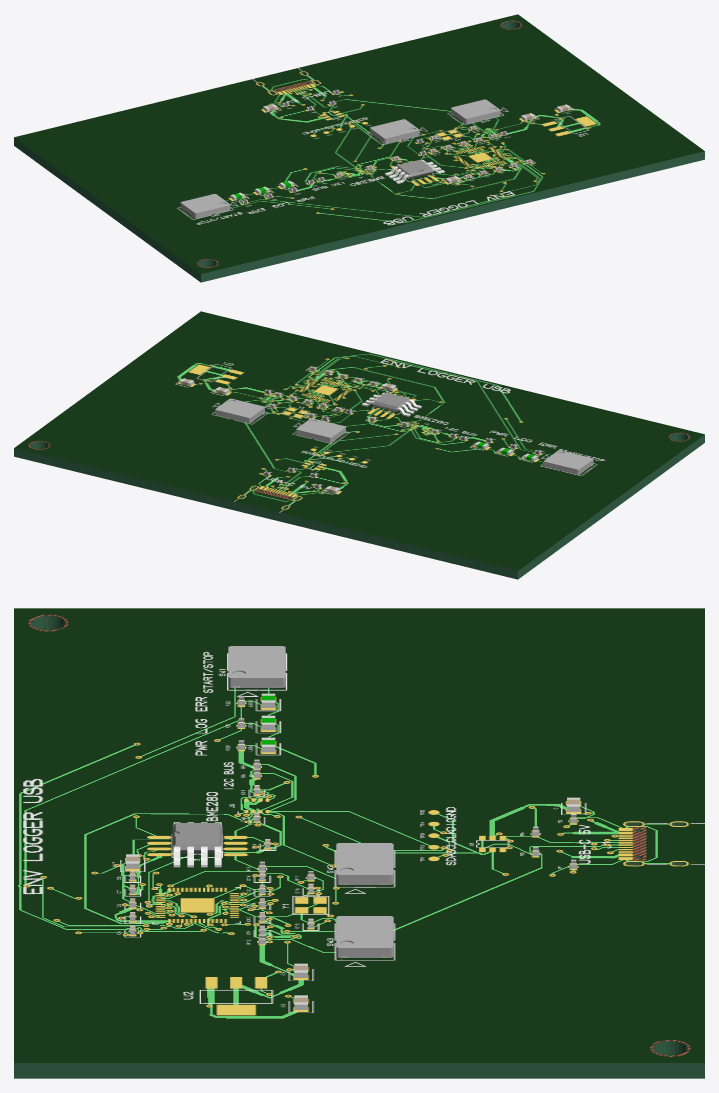
Rendered from board.glb.
The picture shows the model from 3 angles, top to bottom: view 1: azimuth 30°, elevation 25°; view 2: azimuth 150°, elevation 25°; view 3: azimuth 270°, elevation 25°; orthographic projection. The views are drawn at different scales.
Parts seen in each view (by area): view 1: Box0, SW1, SW2, SW3, U4; view 2: Box0, SW2, SW3, SW1, U4; view 3: Box0, SW2, SW3, SW1, U4.
Boxes of the visible parts, left/top/right/bottom form: Box0: left=14, top=14, right=704, bottom=282; SW1: left=180, top=194, right=230, bottom=218; SW2: left=370, top=119, right=419, bottom=143; SW3: left=451, top=99, right=500, bottom=123; U4: left=384, top=159, right=444, bottom=183; Box0: left=14, top=311, right=704, bottom=579; SW2: left=296, top=418, right=345, bottom=442; SW3: left=215, top=398, right=264, bottom=423; SW1: left=544, top=450, right=593, bottom=474; U4: left=361, top=392, right=421, bottom=416; Box0: left=14, top=608, right=704, bottom=1078; SW2: left=336, top=843, right=393, bottom=884; SW3: left=336, top=916, right=393, bottom=957; SW1: left=228, top=646, right=285, bottom=687; U4: left=172, top=822, right=222, bottom=867.
Size of the model in its own units: 99.6 by 2.88 by 64.
10 materials, 2 textured.
